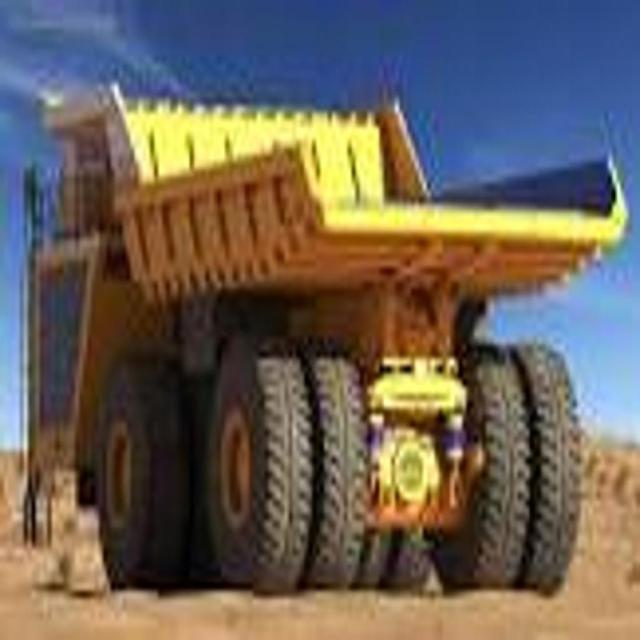dump_truck: (16, 80, 631, 594)
